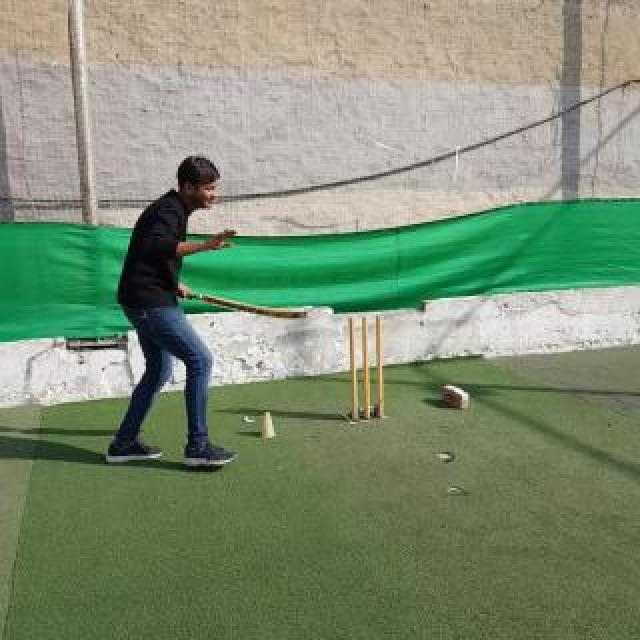bat: (176, 290, 308, 320)
